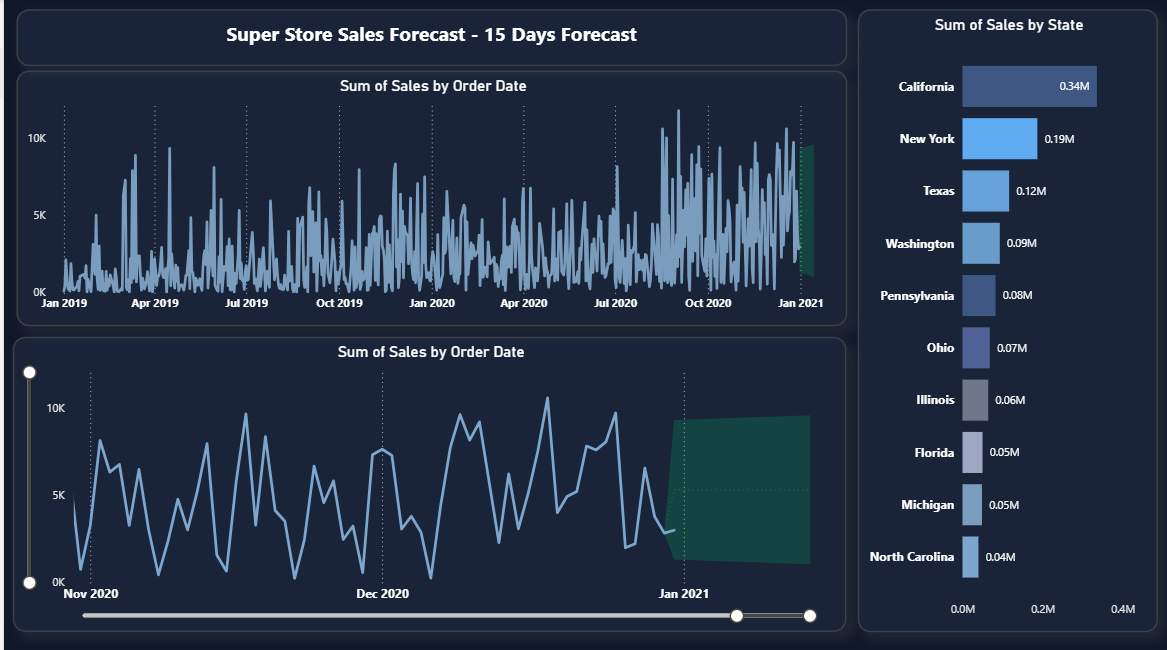

Layout of this report page (visuals, bound fields, positions):
{"tool":"powerbi","page":{"name":"Sales Forecast","canvas":[1280,720],"ordinal":2},"visuals":[{"type":"clusteredBarChart","fields":{"Y":["Sum(SuperStore_Sales_Dataset.Sales)"],"Category":["SuperStore_Sales_Dataset.State"]},"box":[937.3,11.8,329.2,683.7],"z":0},{"type":"lineChart","fields":{"Y":["Sum(SuperStore_Sales_Dataset.Sales)"],"Category":["SuperStore_Sales_Dataset.Order Date"]},"box":[13.4,79,912.1,280.5],"z":1000},{"type":"lineChart","fields":{"Y":["Sum(SuperStore_Sales_Dataset.Sales)"],"Category":["SuperStore_Sales_Dataset.Order Date"]},"box":[10.1,371.2,915.5,324.2],"z":2000},{"type":"textbox","box":[13.4,11.8,912.1,62.2],"z":3000}]}

Visuals, with their boxes in screenshot pixels (x1, y1, x2, y2), scaled from the page's 1280x720 canvas onto the 1167x650 screenshot:
clusteredBarChart - Sum(SuperStore_Sales_Dataset.Sales) x SuperStore_Sales_Dataset.State: 855 11 1155 628
lineChart - Sum(SuperStore_Sales_Dataset.Sales) x SuperStore_Sales_Dataset.Order Date: 12 71 844 325
lineChart - Sum(SuperStore_Sales_Dataset.Sales) x SuperStore_Sales_Dataset.Order Date: 9 335 844 628
textbox: 12 11 844 67
